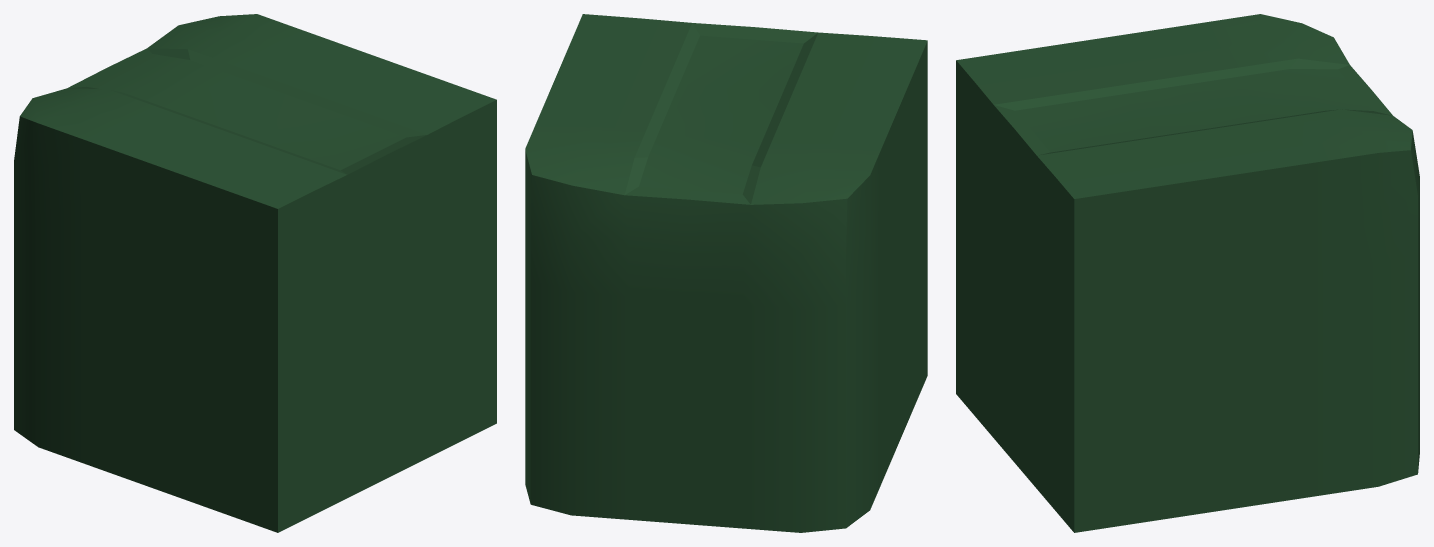
File: front waterfa;; ground.fbx
The picture shows the model from 3 angles, left to right: view 1: azimuth 30°, elevation 25°; view 2: azimuth 150°, elevation 25°; view 3: azimuth 270°, elevation 25°; orthographic projection. The views are drawn at different scales.
Parts seen in each view (by area): view 1: front_waterfall_ground_; view 2: front_waterfall_ground_; view 3: front_waterfall_ground_.
Part boxes in pixels (bbox=[...]): front_waterfall_ground_: bbox=[14, 14, 496, 532]; front_waterfall_ground_: bbox=[525, 14, 927, 532]; front_waterfall_ground_: bbox=[956, 14, 1419, 532].
Bounding box in the file's own units: 14.68 × 12.33 × 15.52.
